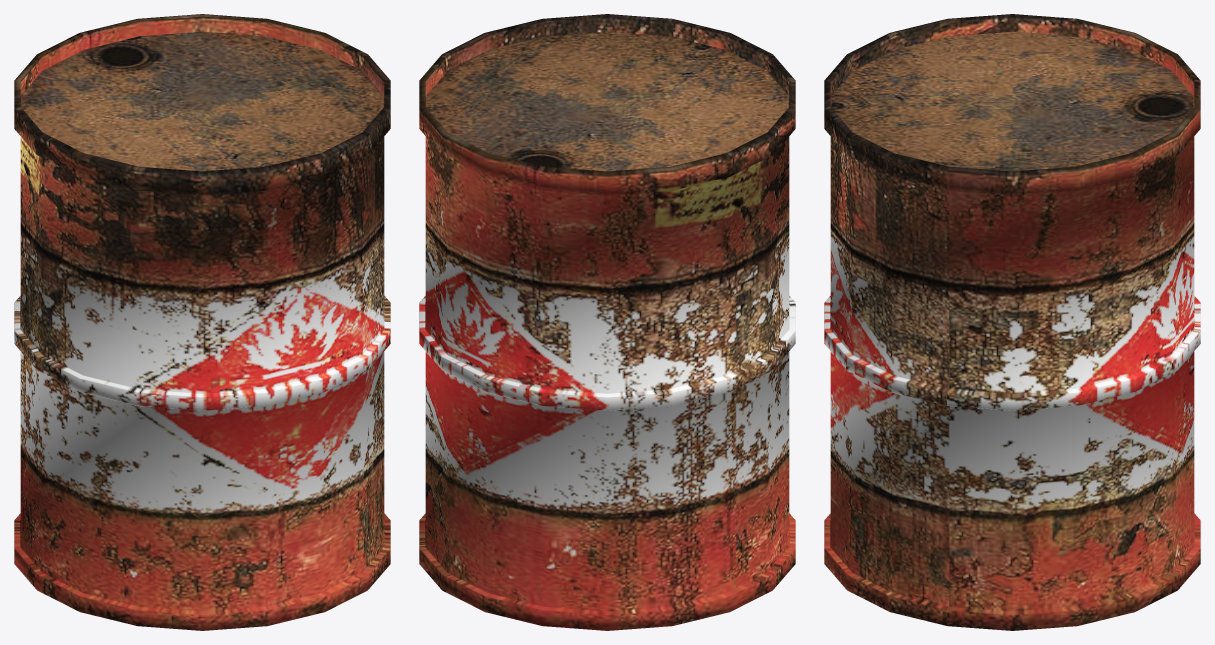
The model's file is barrels-09.FBX.
3 renders of one model, left to right at view 1: azimuth 30°, elevation 25°; view 2: azimuth 150°, elevation 25°; view 3: azimuth 270°, elevation 25°, orthographic.
Parts seen in each view (by area): view 1: Cylinder001; view 2: Cylinder001; view 3: Cylinder001.
Part boxes in pixels (bbox=[...]): Cylinder001: bbox=[14, 14, 390, 630]; Cylinder001: bbox=[419, 14, 795, 630]; Cylinder001: bbox=[824, 14, 1200, 630].
Bounding box in the file's own units: 29.89 × 39.42 × 29.44.
1 material, 1 textured.
